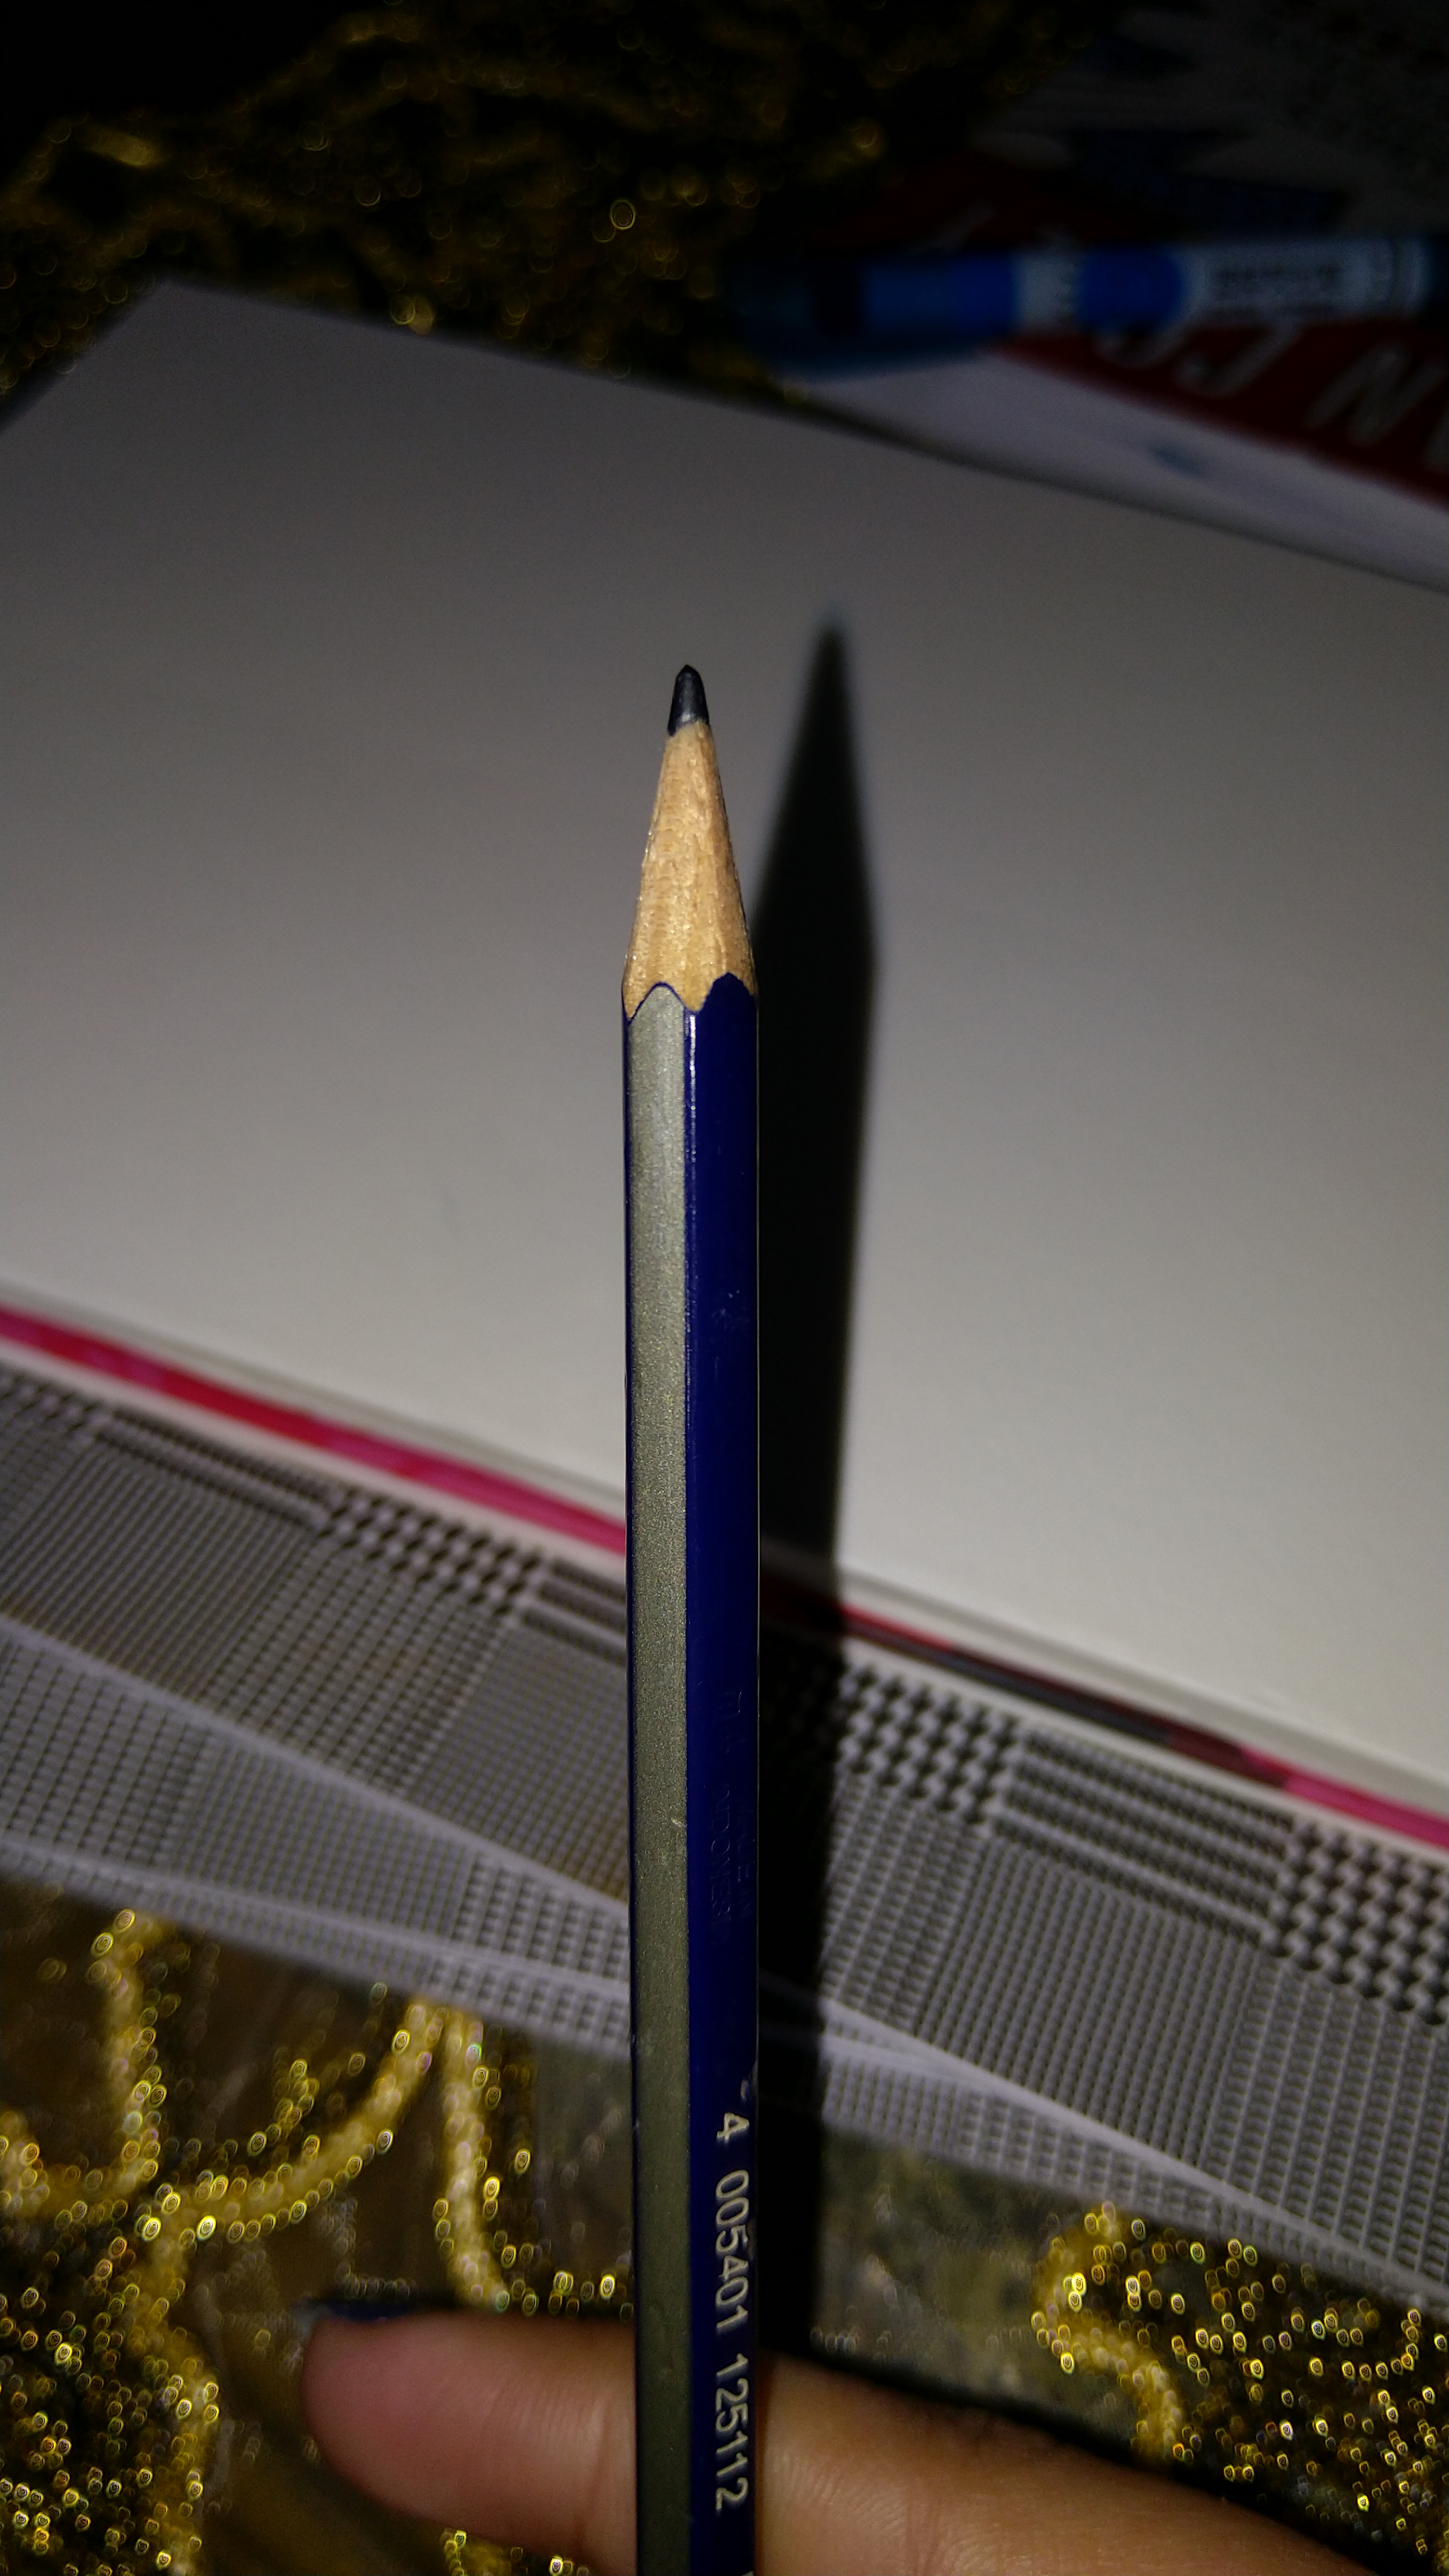pen_tip: (499, 621, 913, 1099)
